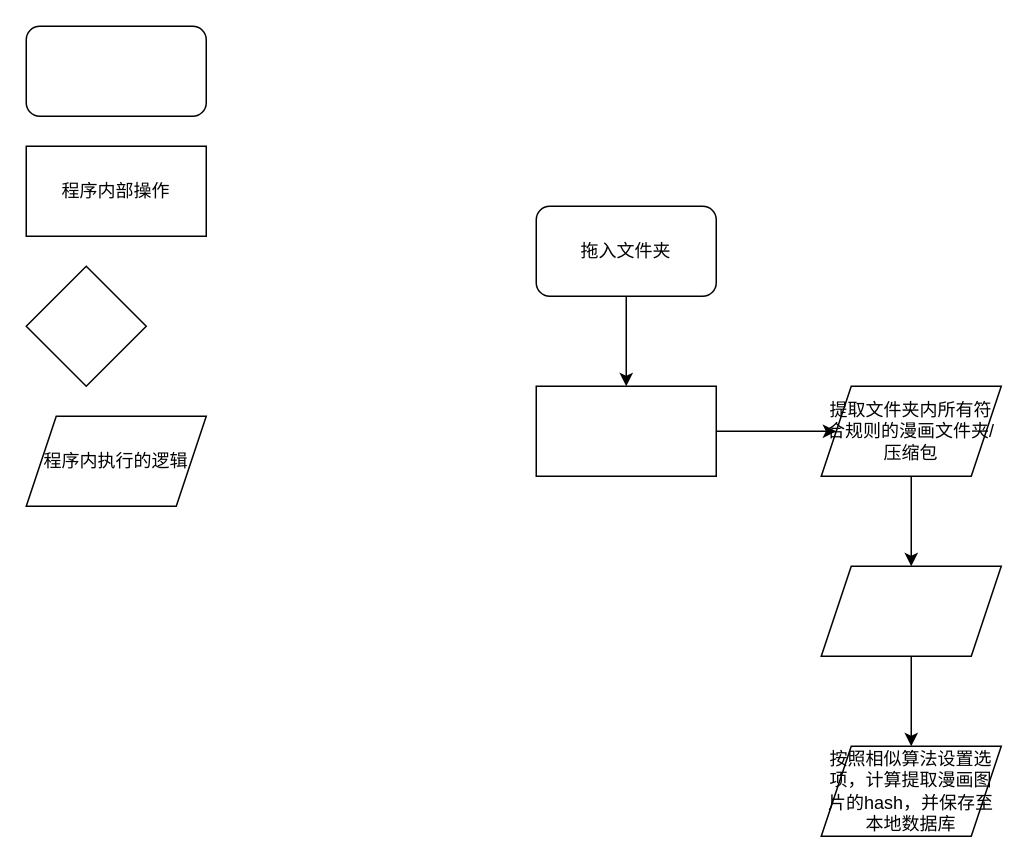
Image size: 1028x863. Some labels were removed from this diagram. The shapes that lost their labels are listed below. From the top down, each one's box as (x1, y1, x2, y2) in pixels, then its label:
(25, 25, 206, 116): 外部操作
(535, 385, 716, 476): 点击开始按钮
(820, 565, 1001, 656): 计算提取漫画的基础信息，并保存至本地数据库
